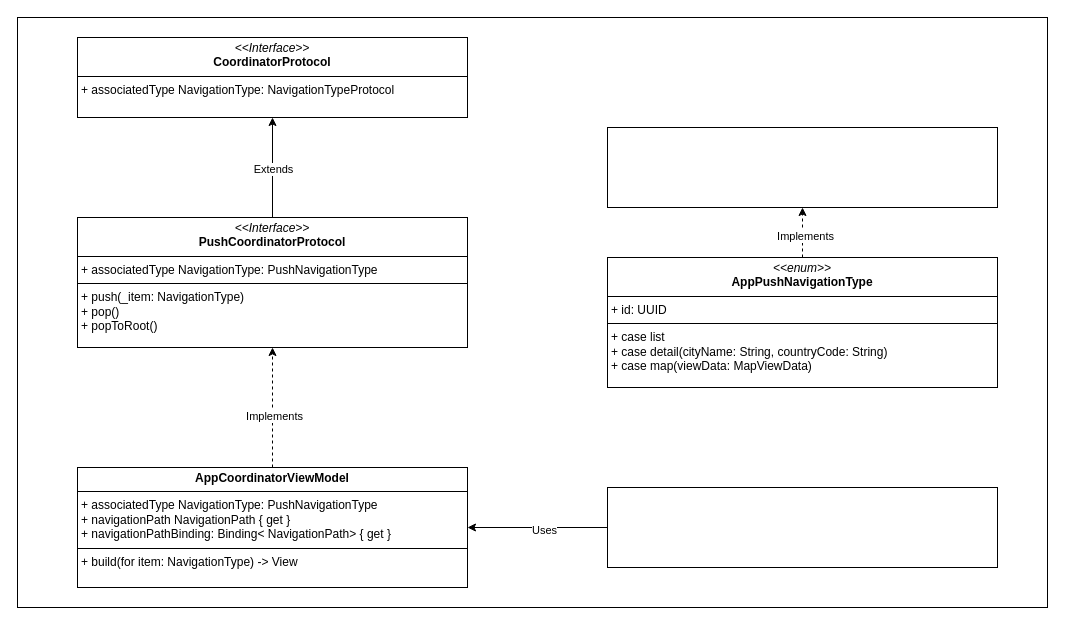
Some shapes in this 1065 by 625 pixel diagram are drawn without their labels. Each missing label, with the box of its shape:
<<Interface>> PushNavigationType: (606, 126, 998, 208)
AppCoordinatorView + viewModel: AppCoordinatorViewModelProtocol + body: View: (606, 486, 998, 568)
